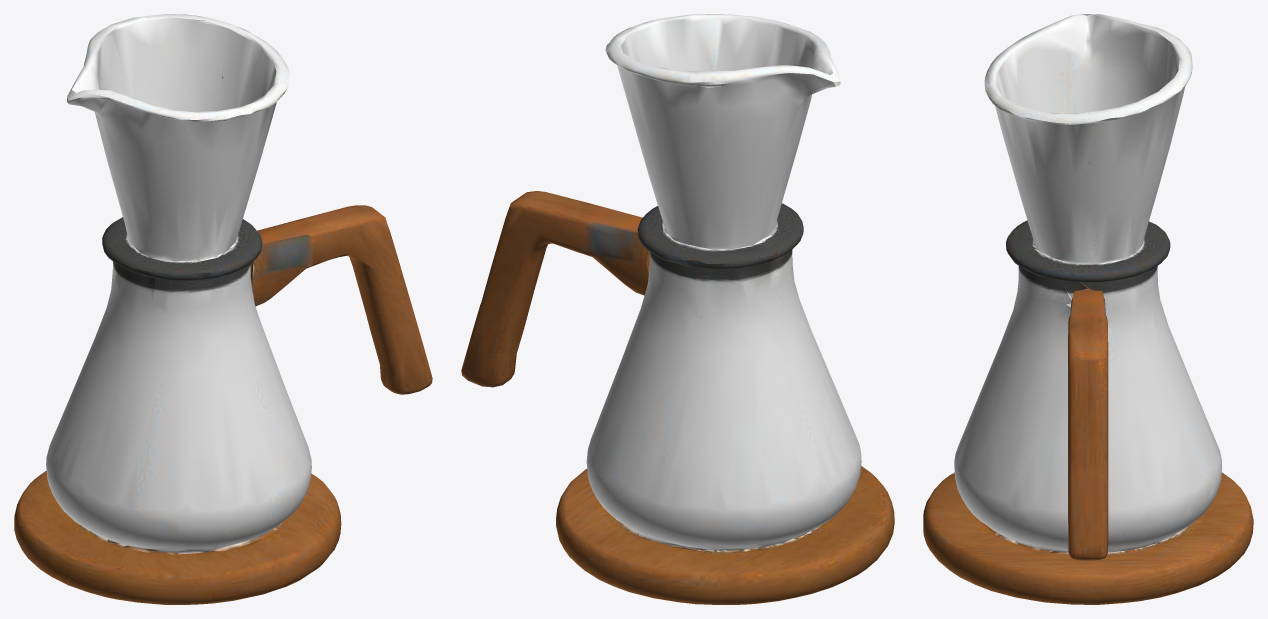
The model's file is siphon.glb.
The picture shows the model from 3 angles, left to right: view 1: azimuth 30°, elevation 25°; view 2: azimuth 150°, elevation 25°; view 3: azimuth 270°, elevation 25°; orthographic projection. The views are drawn at different scales.
Parts seen in each view (by area): view 1: siphon; view 2: siphon; view 3: siphon.
Part boxes in pixels (x1=…): siphon: x1=14, y1=14, x2=432, y2=604; siphon: x1=461, y1=14, x2=894, y2=604; siphon: x1=923, y1=14, x2=1253, y2=604.
Bounding box in the file's own units: 0.3341 × 0.4 × 0.2449.
Materials: 1 (1 with a texture image).
